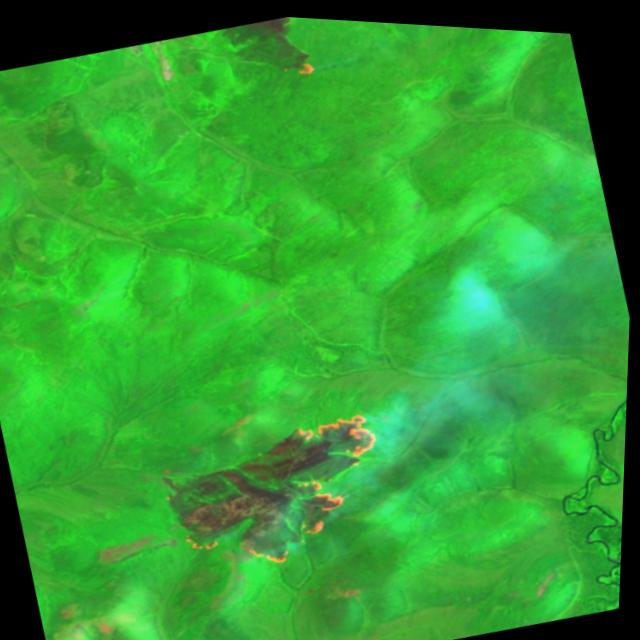fire: (149, 392, 413, 594), (275, 46, 328, 82)
